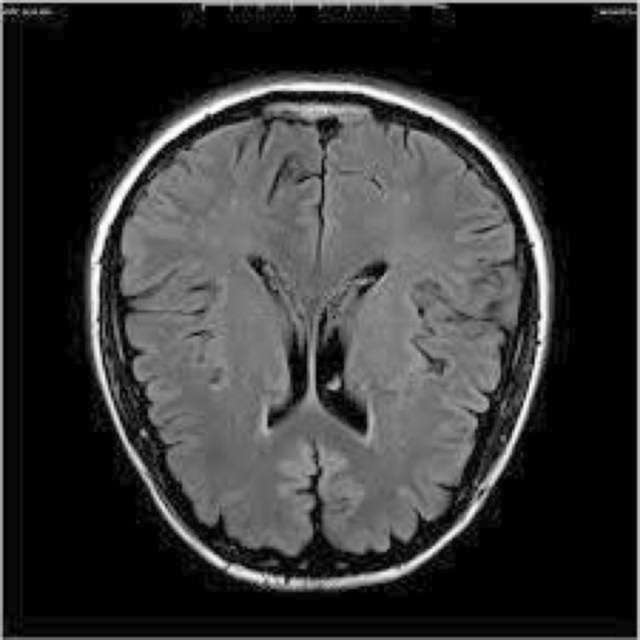glioma tumor: (159, 162, 444, 524)
